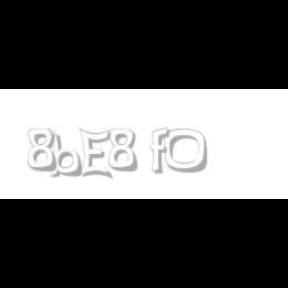8: (108, 128, 138, 172), (28, 128, 57, 172)
E: (78, 128, 112, 180)
O: (164, 128, 208, 174)
b: (47, 128, 85, 178)
f: (150, 128, 174, 174)
